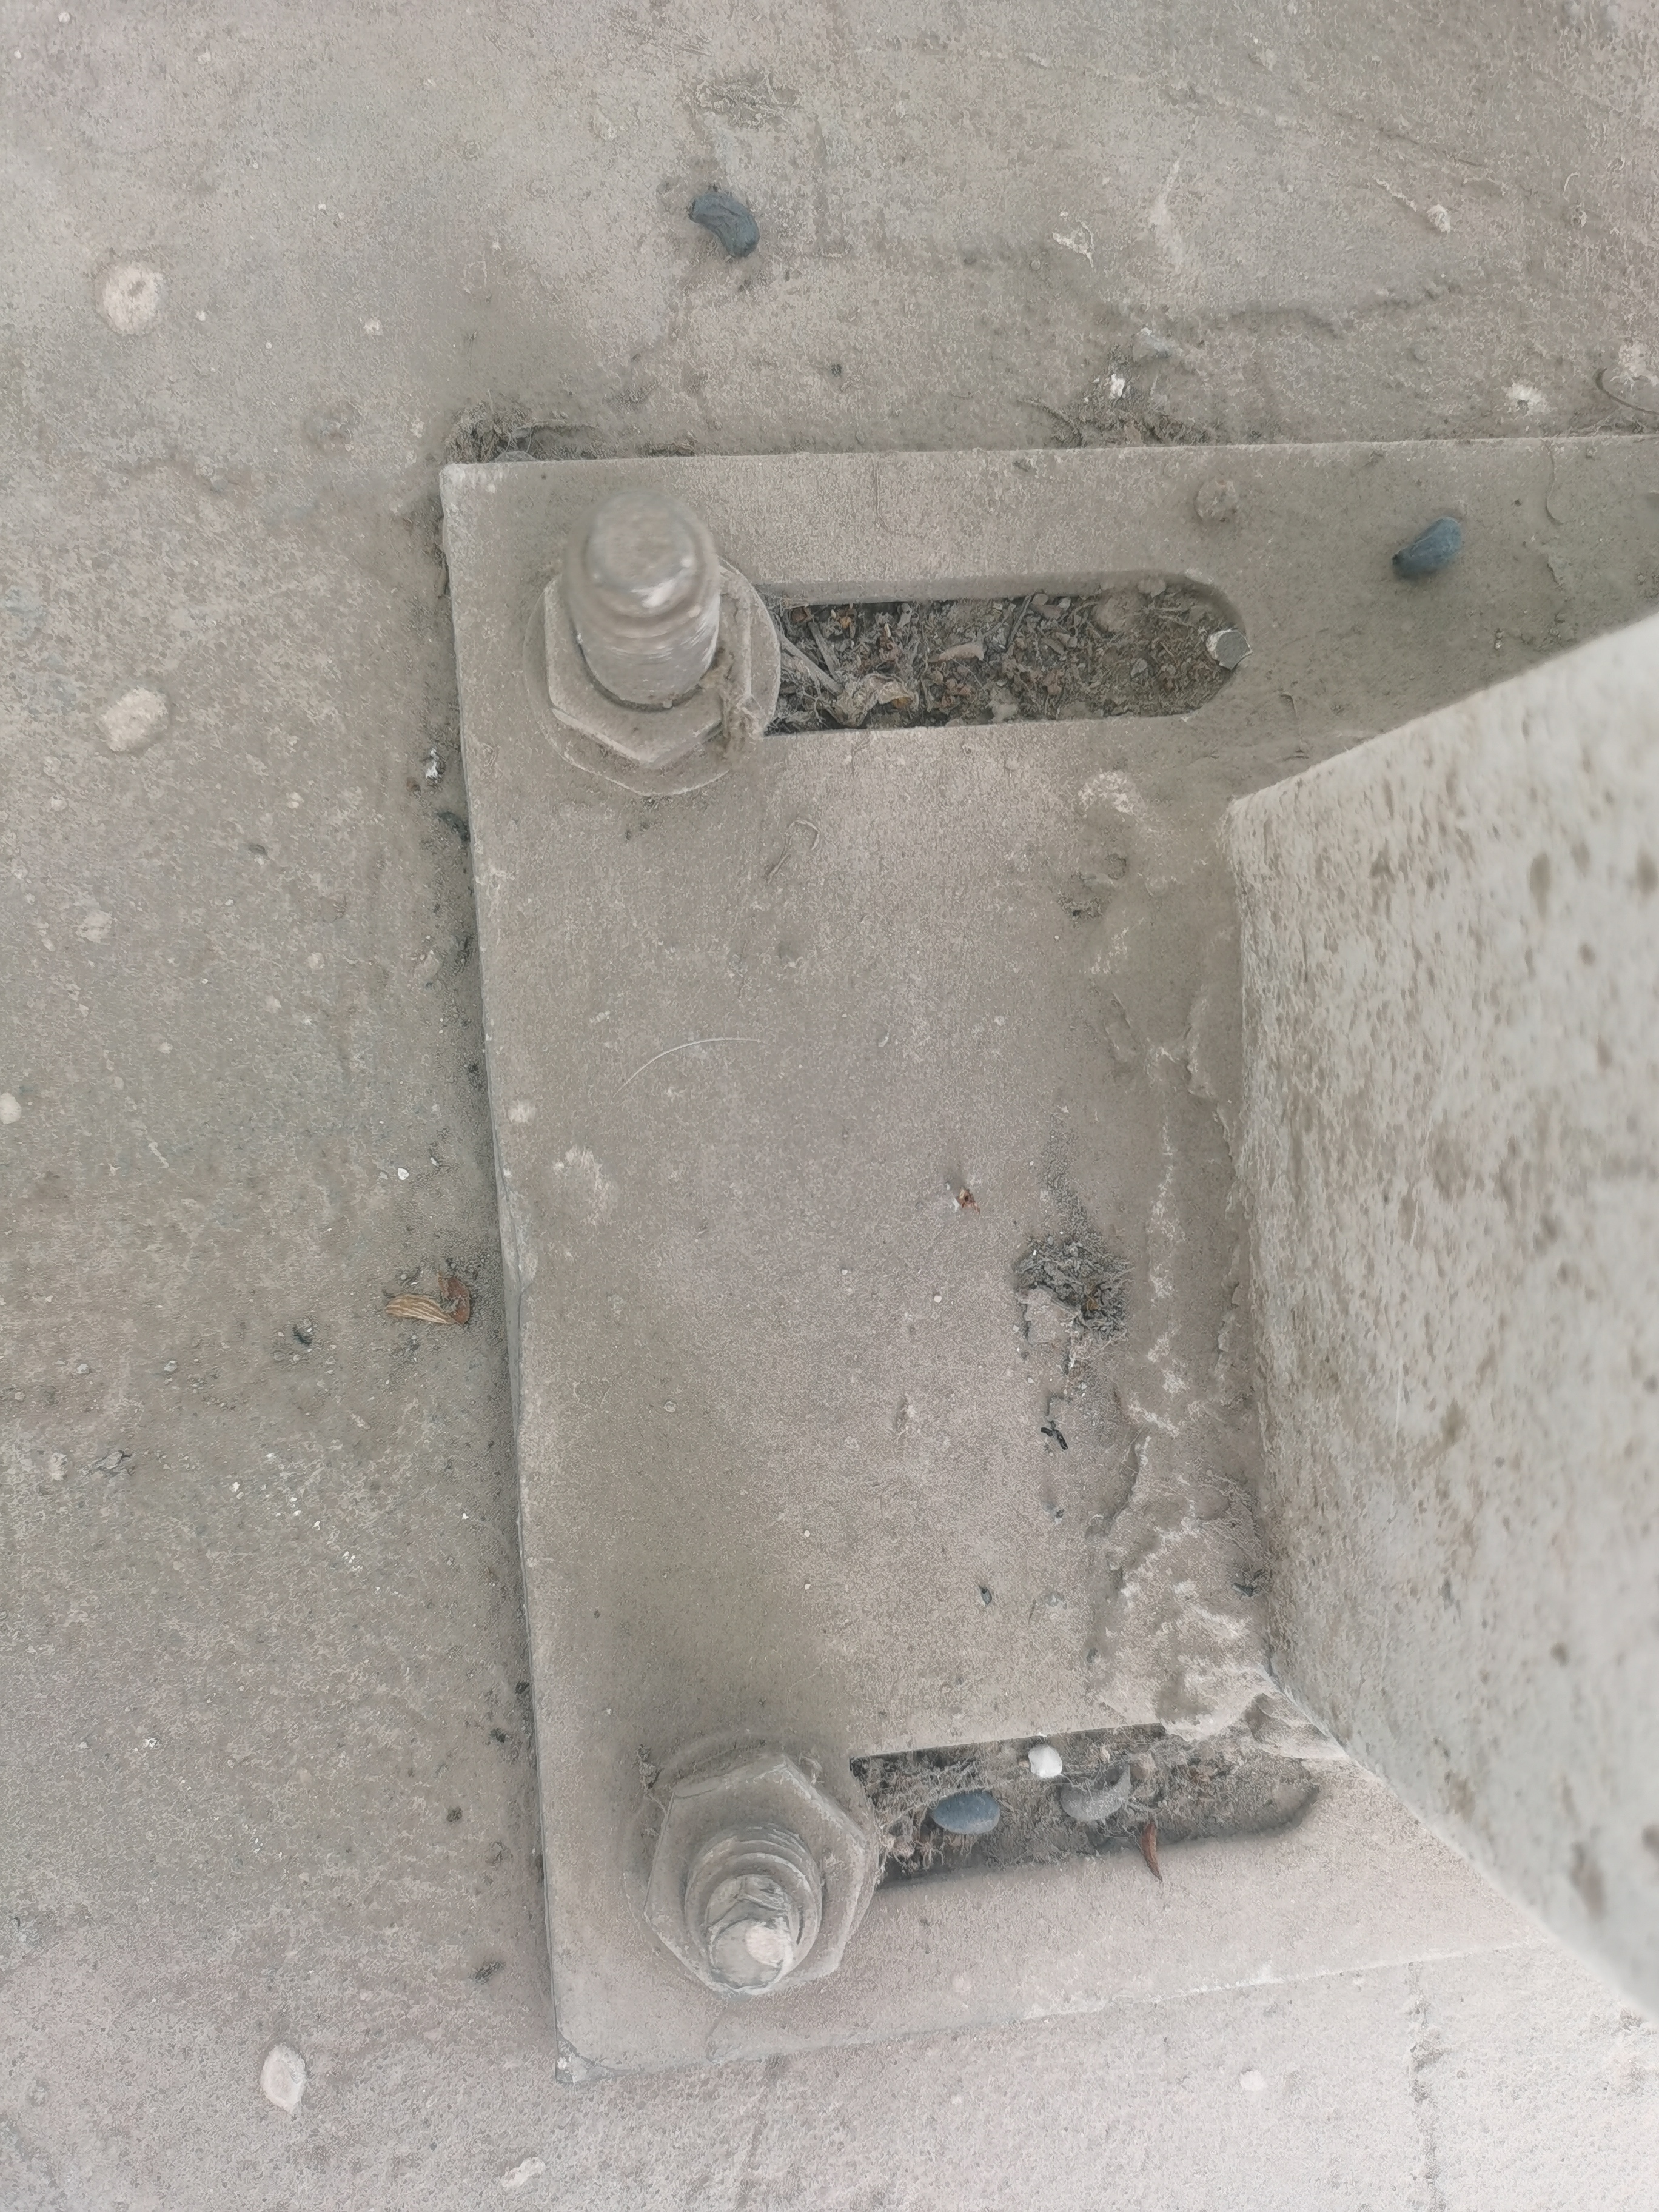bolt_b: (638, 1745, 878, 2008), (523, 524, 762, 780)
